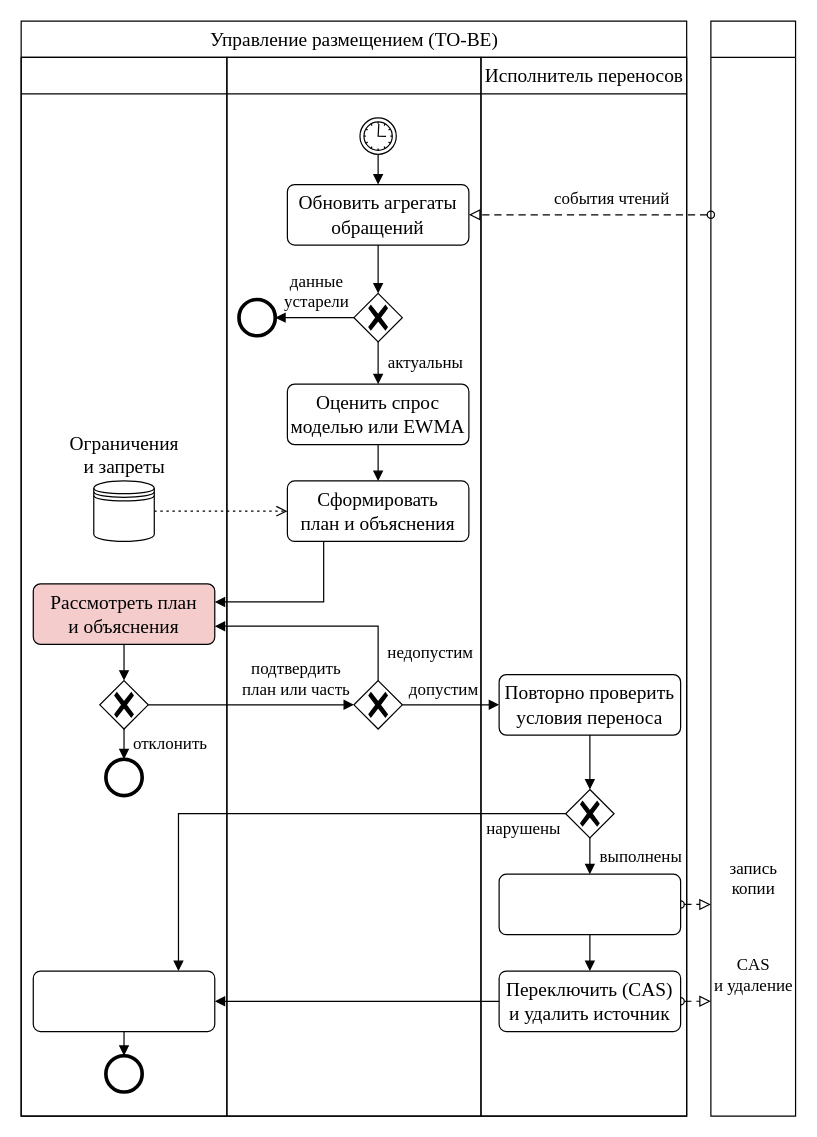
The diagram is 817 pixels wide and 1137 high, and some of its shapes have lost their labels. The shapes that lost their labels are listed below. From the top down, each one's box as (x1, y1, x2, y2) in pixels, then its label:
(20, 56, 227, 1116): Администратор (ЛПР)
(226, 56, 481, 1116): СППР
(710, 20, 796, 1116): OpenS3
(498, 873, 681, 935): Скопировать и проверить копию
(32, 970, 215, 1032): Просмотреть результат
